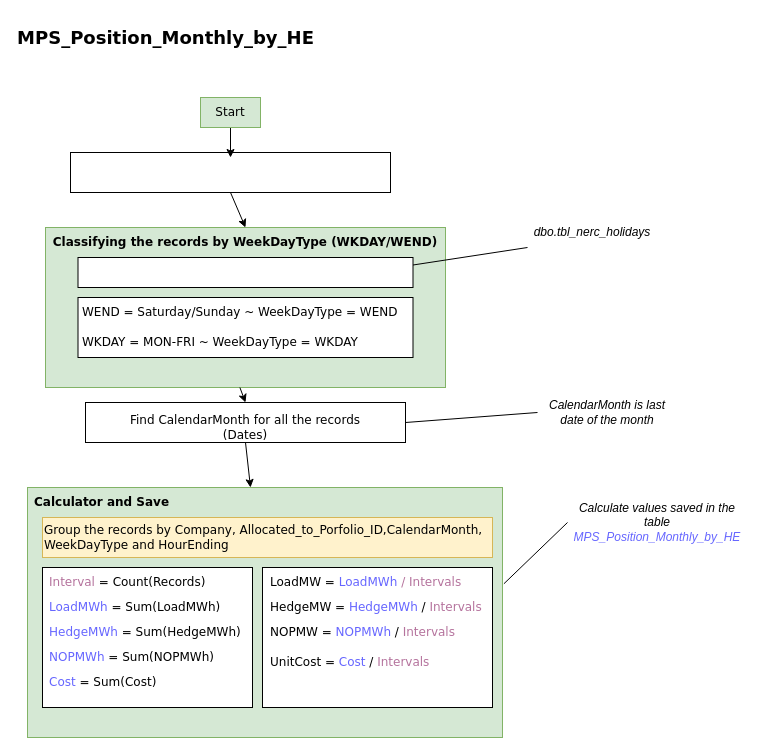
Some shapes in this 764 by 755 pixel diagram are drawn without their labels. The shapes that lost their labels are listed below. From the top down, each one's centre as x and y in pixels, then its label:
At [230,172]: "Take all the records in MPS_Position_Hourly".
At [245,272]: "Flag the Dates that are NERC Holidays".
